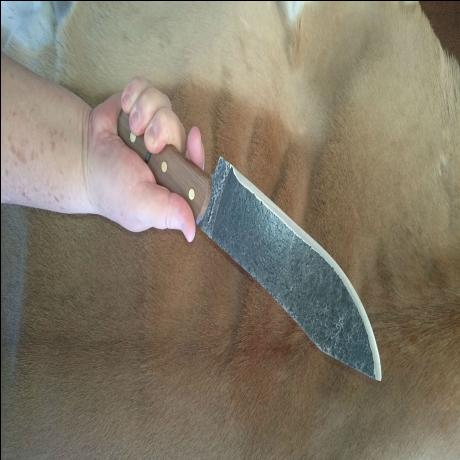1: (0, 46, 206, 247)
weapon: (117, 95, 387, 395)
